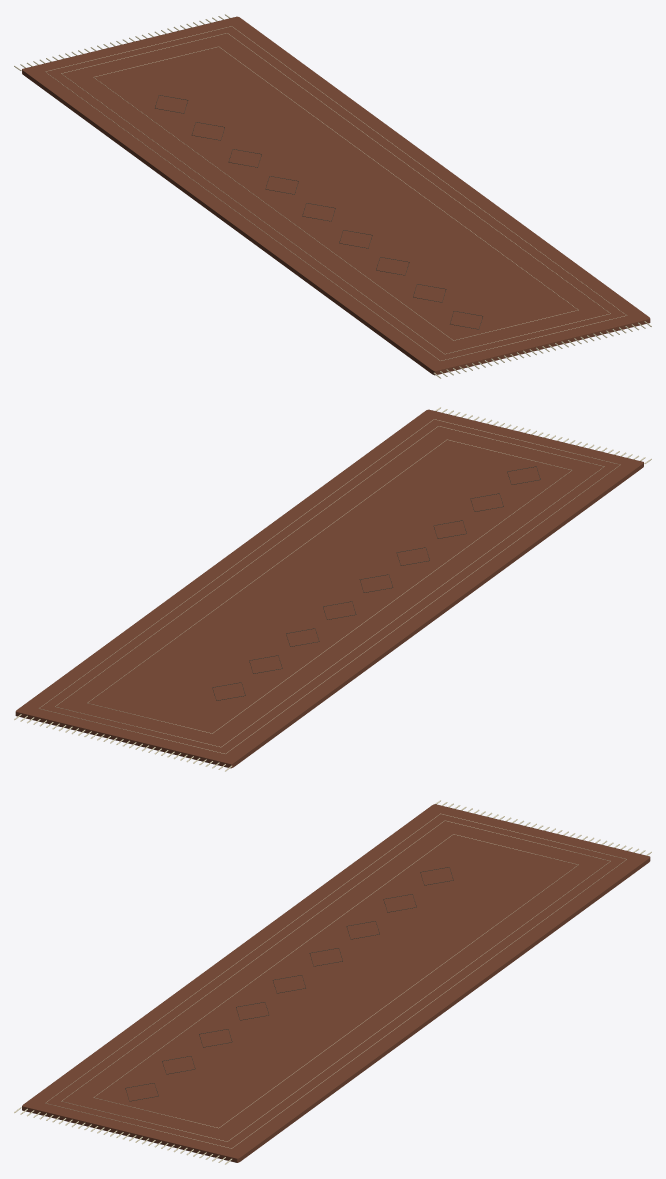
File: Rug_Runner.fbx
The picture shows the model from 3 angles, top to bottom: view 1: azimuth 30°, elevation 25°; view 2: azimuth 150°, elevation 25°; view 3: azimuth 330°, elevation 25°; orthographic projection.
Parts seen in each view (by area): view 1: Woven rug.002, Rug border.006, Rug border.007, Rug border.008; view 2: Woven rug.002, Rug border.006, Rug border.007, Rug border.008; view 3: Woven rug.002, Rug border.006, Rug border.007, Rug border.008.
Part boxes in pixels (x1,y1,x2,y2): Woven rug.002: (22,16,650,375); Rug border.006: (45,26,626,361); Rug border.007: (61,33,610,354); Rug border.008: (93,46,578,340); Woven rug.002: (15,409,643,768); Rug border.006: (39,419,620,754); Rug border.007: (55,426,604,747); Rug border.008: (87,439,572,733); Woven rug.002: (22,804,650,1162); Rug border.006: (45,813,626,1148); Rug border.007: (61,820,610,1141); Rug border.008: (93,834,578,1128).
Bounding box in the file's own units: 0.852 × 0.0172 × 2.89.
